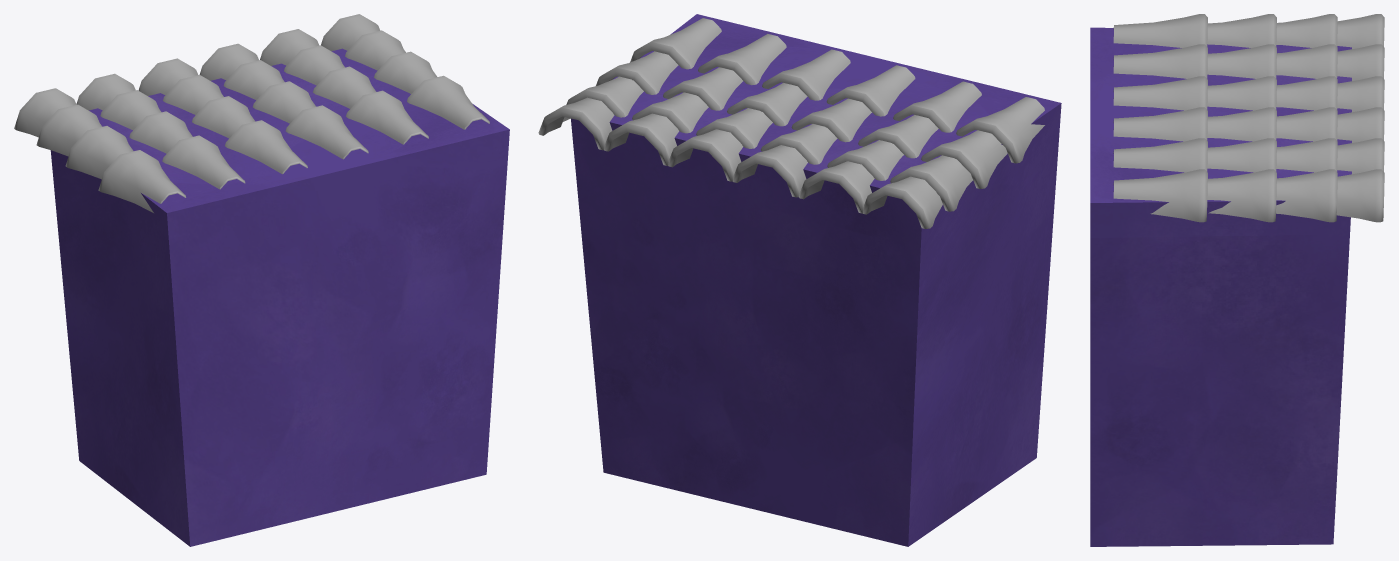
File: bat7.fbx
The picture shows the model from 3 angles, left to right: view 1: azimuth 30°, elevation 25°; view 2: azimuth 150°, elevation 25°; view 3: azimuth 270°, elevation 25°; orthographic projection. The views are drawn at different scales.
Parts seen in each view (by area): view 1: pCube70; view 2: pCube70; view 3: pCube70.
Part boxes in pixels (left/top/right/bottom): pCube70: left=14, top=14, right=509, bottom=546; pCube70: left=538, top=14, right=1061, bottom=546; pCube70: left=1090, top=14, right=1384, bottom=546.
Bounding box in the file's own units: 9.15 × 8.46 × 6.04.
